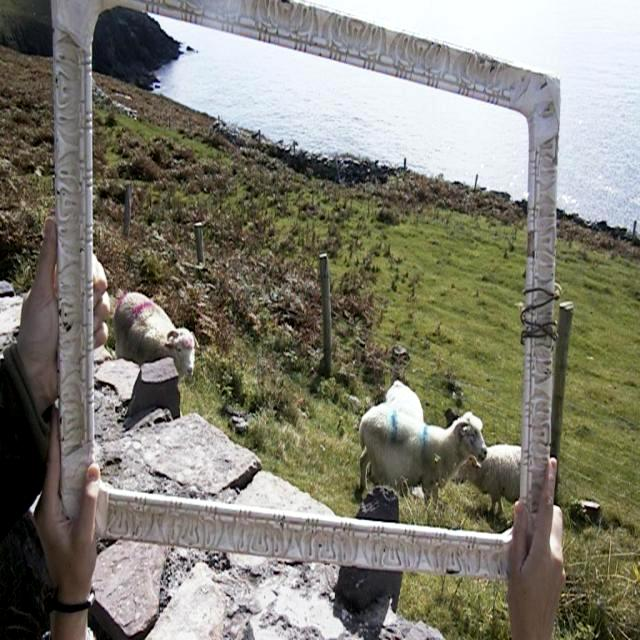sheep: (358, 404, 485, 503), (383, 379, 422, 495)
